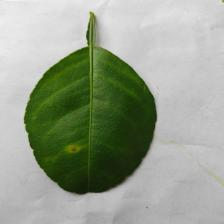canker: (38, 119, 94, 167)
